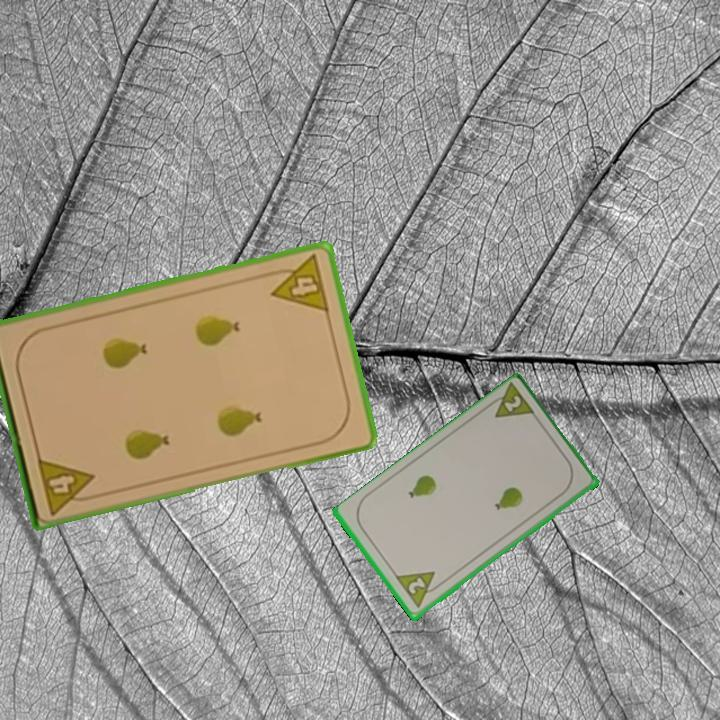2p: (393, 568, 446, 612), (482, 381, 539, 421)
4p: (33, 453, 101, 518), (263, 251, 332, 315)
